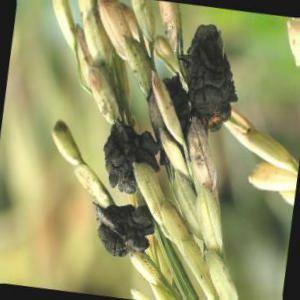Leaf_Scald: (185, 25, 228, 125), (109, 121, 150, 203), (93, 206, 151, 260)
